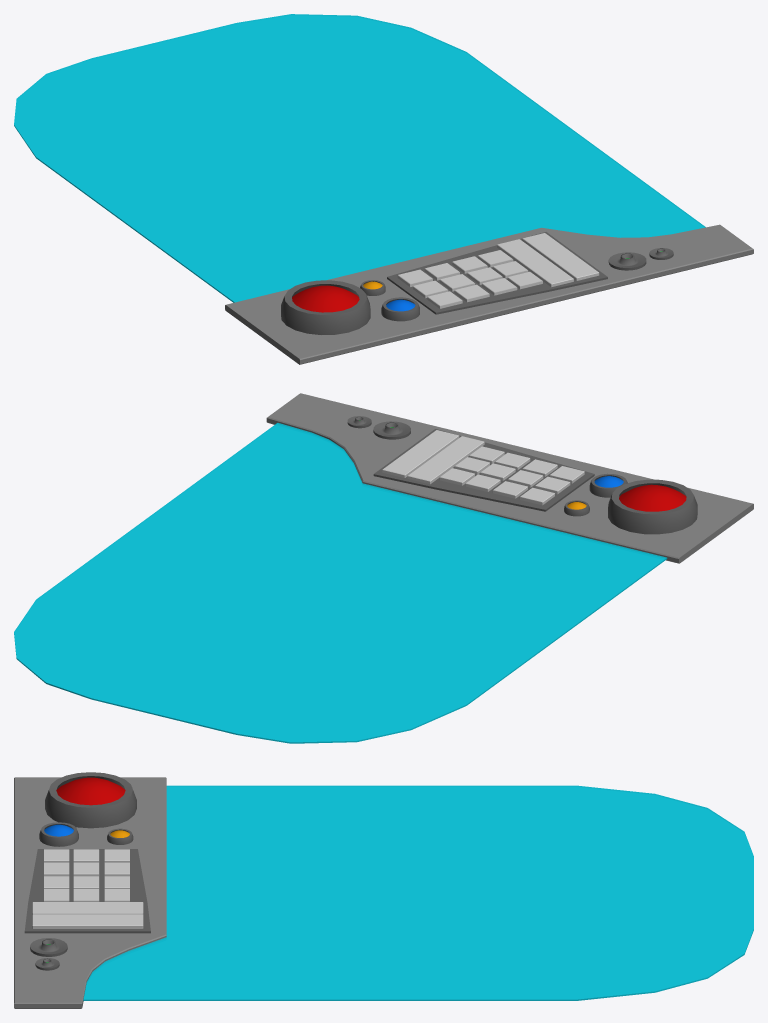
Rendered from tablette.fbx.
3 renders of one model, top to bottom at view 1: azimuth 30°, elevation 25°; view 2: azimuth 150°, elevation 25°; view 3: azimuth 270°, elevation 25°, orthographic.
Visible parts, largest first — view 1: tablette; view 2: tablette; view 3: tablette.
Boxes of the visible parts, x1,y1,x2,y2 form: tablette: (14, 14, 753, 364); tablette: (14, 393, 753, 743); tablette: (14, 772, 753, 1008).
Bounding box in the file's own units: 0.043 × 0.00287 × 0.0595.
